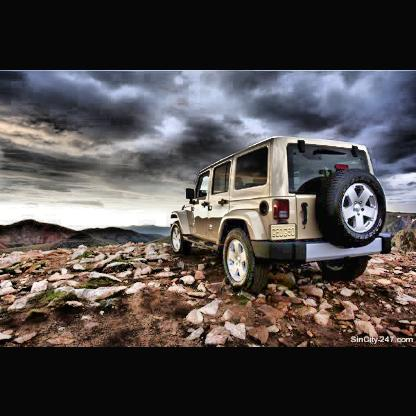Jeep Wrangler SUV 2012: (171, 137, 394, 288)
